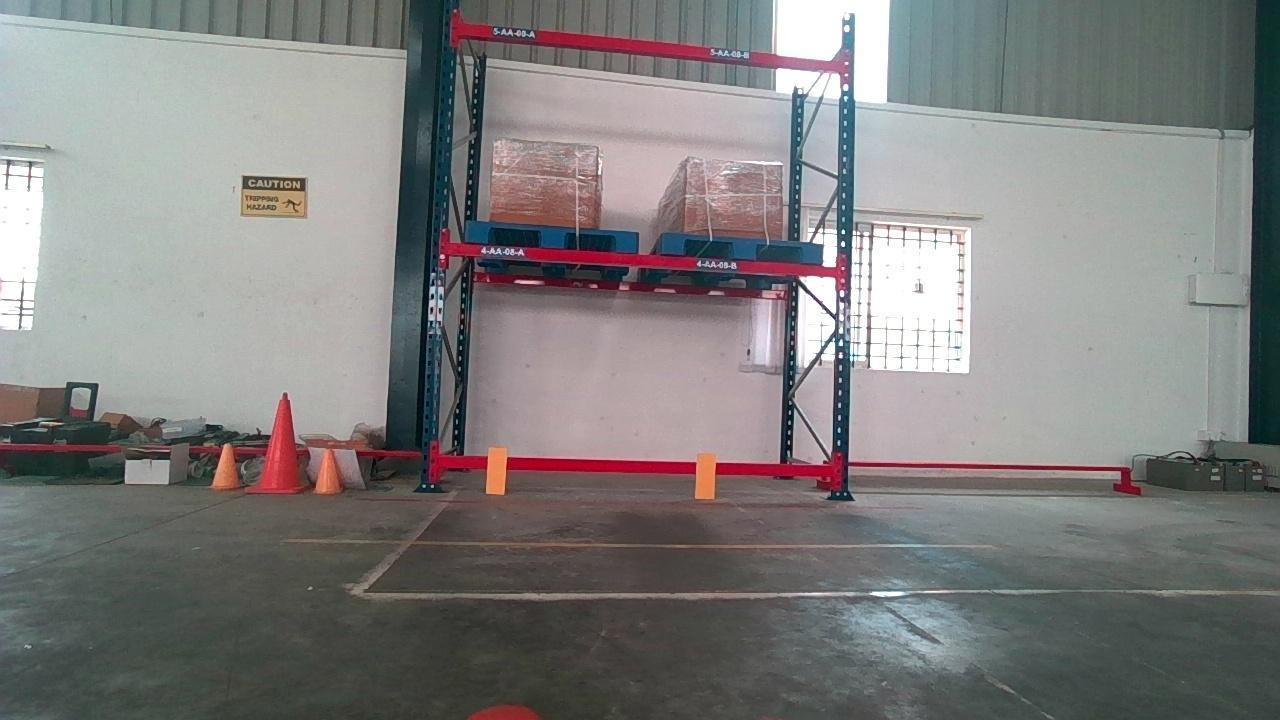h_rack: (451, 23, 839, 73), (442, 244, 838, 278), (425, 457, 838, 478)
orange_strip: (486, 446, 507, 493), (694, 454, 713, 498)
red_line: (359, 495, 921, 510)
small_pallet: (459, 224, 636, 248), (658, 236, 822, 258)
yellow_line: (287, 538, 993, 549)
